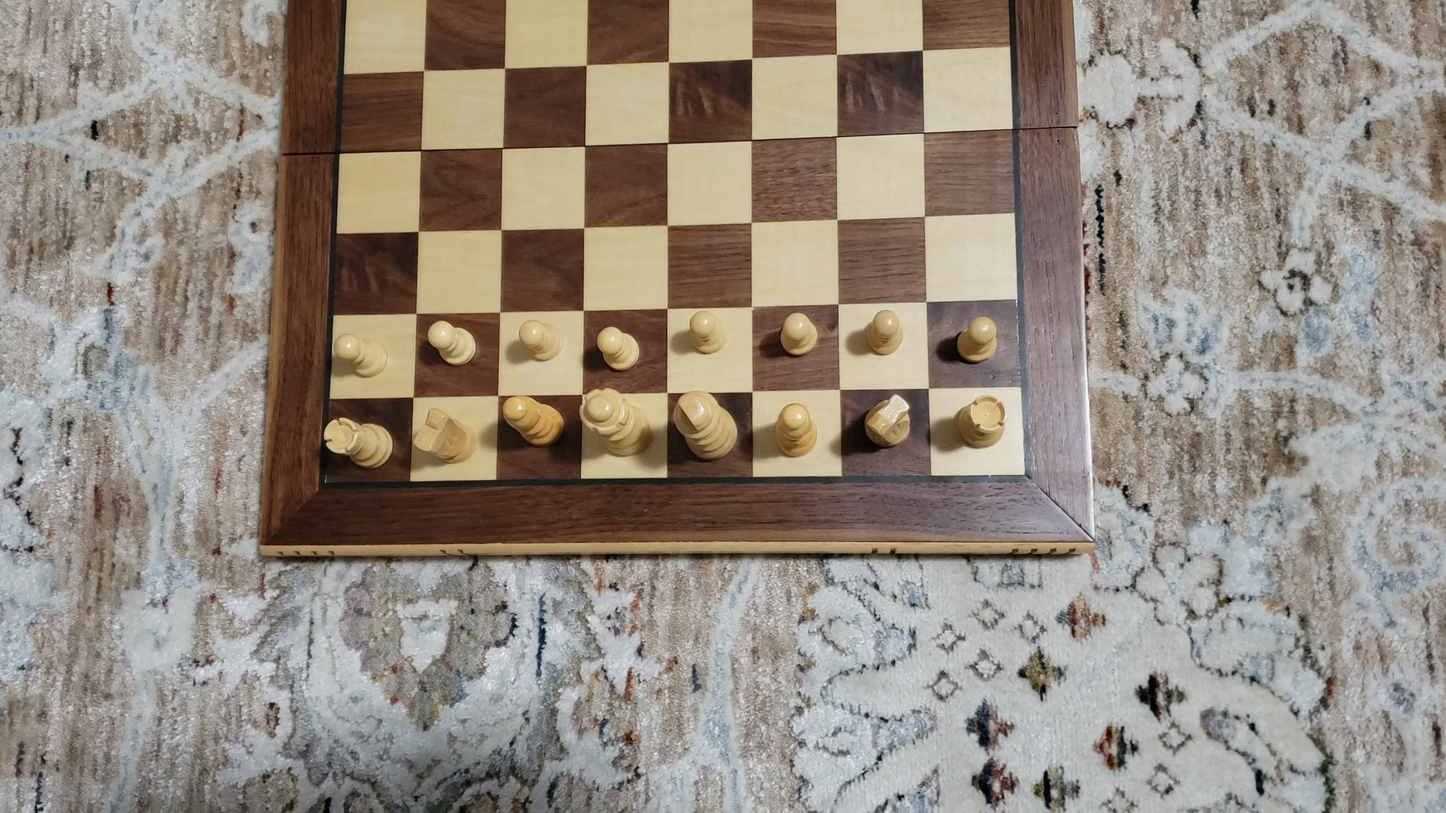white-bishop: (502, 393, 564, 447), (774, 402, 817, 458)
white-king: (672, 390, 733, 458)
white-knight: (414, 408, 476, 464), (863, 395, 912, 450)
white-pawn: (945, 311, 1003, 369), (857, 303, 910, 360), (334, 333, 388, 378), (426, 319, 476, 365), (597, 325, 641, 370), (519, 318, 563, 362), (779, 310, 818, 356), (689, 308, 726, 354)
white-queen: (581, 389, 654, 459)
white-rook: (325, 417, 396, 469), (956, 393, 1007, 449)
